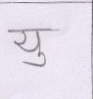u_matra: (24, 53, 48, 68)
